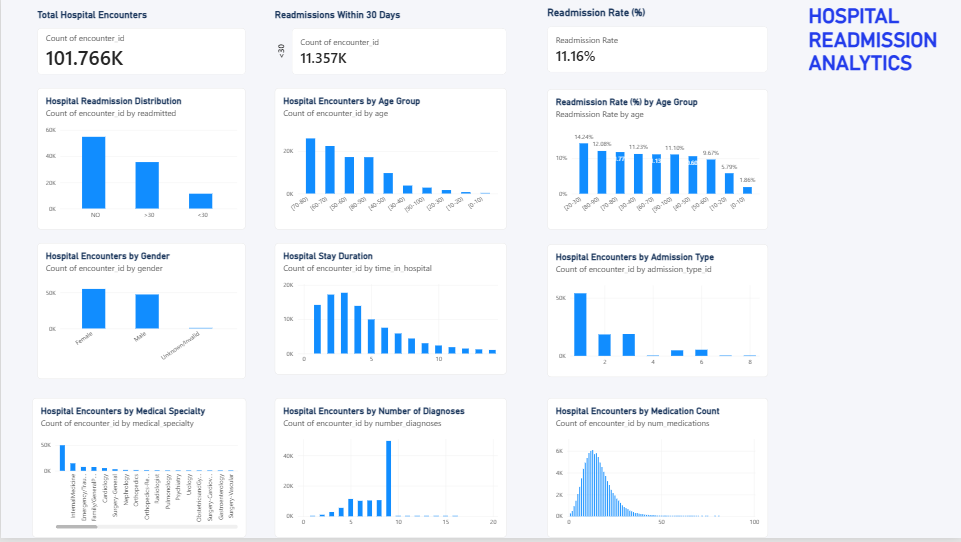

The page's visual inventory and layout, read from the dashboard file:
{"tool":"powerbi","page":{"name":"Page 1","canvas":[1920,1080],"ordinal":0},"visuals":[{"type":"cardVisual","title":"Total Hospital Encounters","fields":{"Data":["CountNonNull(diabetic_data.encounter_id)"]},"box":[73.6,22.3,417.1,131.6],"z":0},{"type":"clusteredColumnChart","title":"Hospital Readmission Distribution","fields":{"Category":["diabetic_data.readmitted"],"Y":["CountNonNull(diabetic_data.encounter_id)"]},"box":[73.6,180.7,417.1,283.3],"z":1000},{"type":"cardVisual","title":"Readmissions Within 30 Days","fields":{"Data":["CountNonNull(diabetic_data.encounter_id)"],"Rows":["diabetic_data.readmitted"]},"box":[546.5,22.3,463.9,131.6],"z":2000},{"type":"clusteredColumnChart","title":"Hospital Encounters by Age Group","fields":{"Category":["diabetic_data.age"],"Y":["CountNonNull(diabetic_data.encounter_id)"]},"box":[546.5,180.7,463.9,283.3],"z":3000},{"type":"clusteredColumnChart","title":"Hospital Stay Duration","fields":{"Category":["diabetic_data.time_in_hospital"],"Y":["CountNonNull(diabetic_data.encounter_id)"]},"box":[546.5,490.7,463.9,263.2],"z":4000},{"type":"clusteredColumnChart","title":"Hospital Encounters by Gender","fields":{"Category":["diabetic_data.gender"],"Y":["CountNonNull(diabetic_data.encounter_id)"]},"box":[73.6,490.7,417.1,272.1],"z":5000},{"type":"clusteredColumnChart","title":"Hospital Encounters by Admission Type","fields":{"Category":["diabetic_data.admission_type_id"],"Y":["CountNonNull(diabetic_data.encounter_id)"]},"box":[1092.9,492.9,441.6,265.4],"z":6000},{"type":"clusteredColumnChart","title":"Hospital Encounters by Medical Specialty","fields":{"Category":["diabetic_data.medical_specialty"],"Y":["CountNonNull(diabetic_data.encounter_id)"]},"box":[62.5,800.7,428.3,278.8],"z":7000},{"type":"clusteredColumnChart","title":"Hospital Encounters by Number of Diagnoses","fields":{"Category":["diabetic_data.number_diagnoses"],"Y":["CountNonNull(diabetic_data.encounter_id)"]},"box":[546.5,800.7,463.9,278.8],"z":8000},{"type":"clusteredColumnChart","title":"Hospital Encounters by Medication Count","fields":{"Category":["diabetic_data.num_medications"],"Y":["CountNonNull(diabetic_data.encounter_id)"]},"box":[1092.9,800.7,441.6,278.8],"z":9000},{"type":"clusteredColumnChart","title":"Readmission Rate (%) by Age Group","fields":{"Category":["diabetic_data.age"],"Y":["diabetic_data.Readmission Rate"]},"box":[1092.9,182.9,441.6,281],"z":10000},{"type":"cardVisual","title":"Readmission Rate (%)","fields":{"Data":["diabetic_data.Readmission Rate"]},"box":[1092.9,17.8,441.6,131.6],"z":11000},{"type":"textbox","title":"HOSPITAL READMISSION ANALYTICS","box":[1614.9,13.4,281,272.1],"z":12000}]}

Visuals, with their boxes in screenshot pixels (x1, y1, x2, y2), scaled from the page's 1920x1080 canvas onto the 961x542 screenshot:
"Total Hospital Encounters" cardVisual: (left=37, top=11, right=246, bottom=77)
"Hospital Readmission Distribution" clusteredColumnChart: (left=37, top=91, right=246, bottom=233)
"Readmissions Within 30 Days" cardVisual: (left=274, top=11, right=506, bottom=77)
"Hospital Encounters by Age Group" clusteredColumnChart: (left=274, top=91, right=506, bottom=233)
"Hospital Stay Duration" clusteredColumnChart: (left=274, top=246, right=506, bottom=378)
"Hospital Encounters by Gender" clusteredColumnChart: (left=37, top=246, right=246, bottom=383)
"Hospital Encounters by Admission Type" clusteredColumnChart: (left=547, top=247, right=768, bottom=381)
"Hospital Encounters by Medical Specialty" clusteredColumnChart: (left=31, top=402, right=246, bottom=541)
"Hospital Encounters by Number of Diagnoses" clusteredColumnChart: (left=274, top=402, right=506, bottom=541)
"Hospital Encounters by Medication Count" clusteredColumnChart: (left=547, top=402, right=768, bottom=541)
"Readmission Rate (%) by Age Group" clusteredColumnChart: (left=547, top=92, right=768, bottom=233)
"Readmission Rate (%)" cardVisual: (left=547, top=9, right=768, bottom=75)
"HOSPITAL READMISSION ANALYTICS" textbox: (left=808, top=7, right=949, bottom=143)
